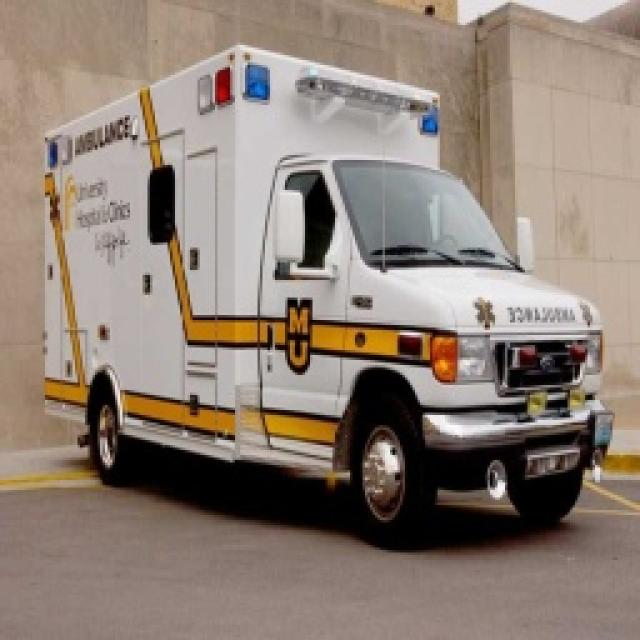ambulance: (48, 42, 608, 562)
